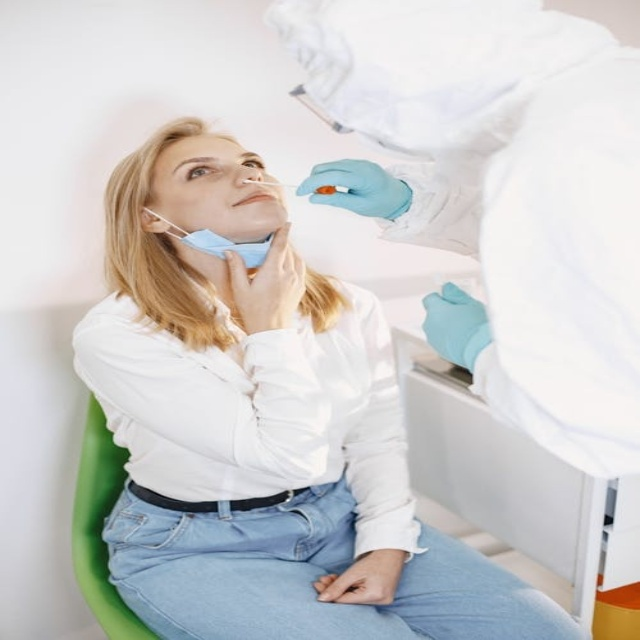Gafas: (288, 84, 352, 134)
Guantes: (298, 158, 412, 222), (422, 280, 493, 374)
Sin_gafas: (164, 153, 275, 178)
Sin_guantes: (212, 223, 308, 328), (312, 550, 405, 605)
Sin_mascara: (207, 187, 288, 212)
